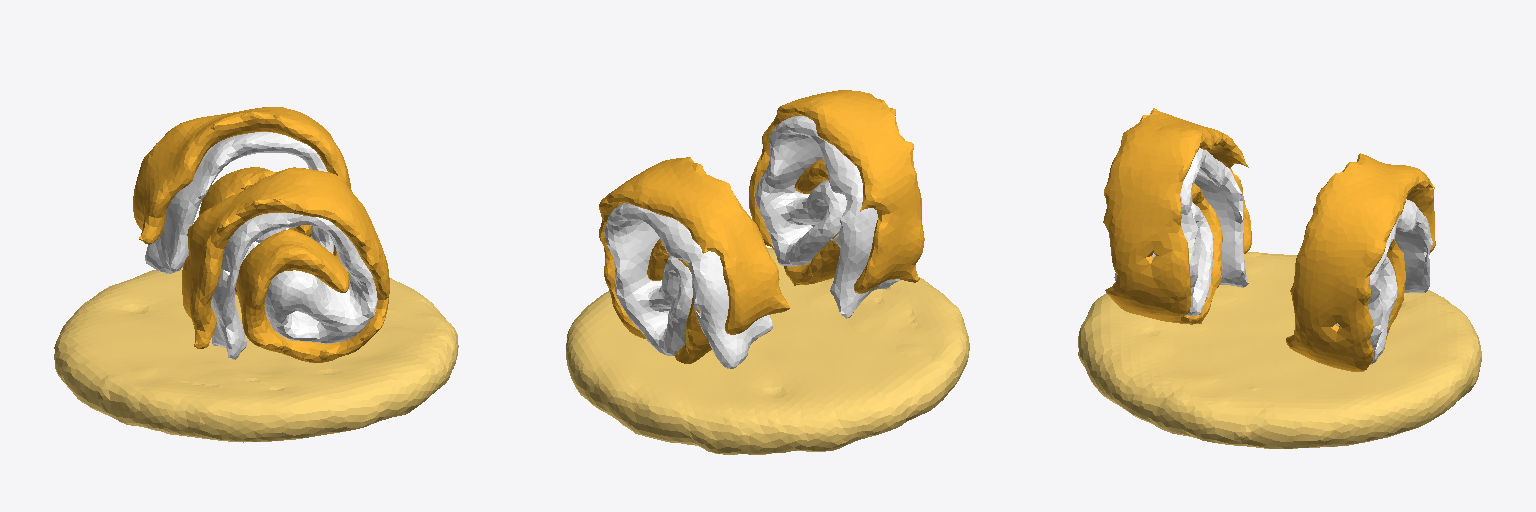
Rendered from cake3.obj.
3 views of the same model, side by side, from view 1: azimuth 30°, elevation 25°; view 2: azimuth 150°, elevation 25°; view 3: azimuth 270°, elevation 25° (orthographic).
Bounding box in the file's own units: 0.6152 × 0.4092 × 0.6165.